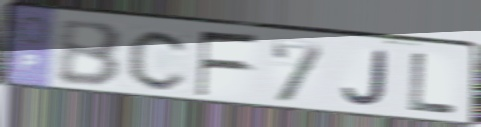7: (269, 36, 326, 104)
B: (57, 20, 126, 90)
C: (126, 28, 193, 93)
F: (195, 30, 262, 99)
J: (340, 48, 389, 108)
L: (406, 50, 459, 117)
